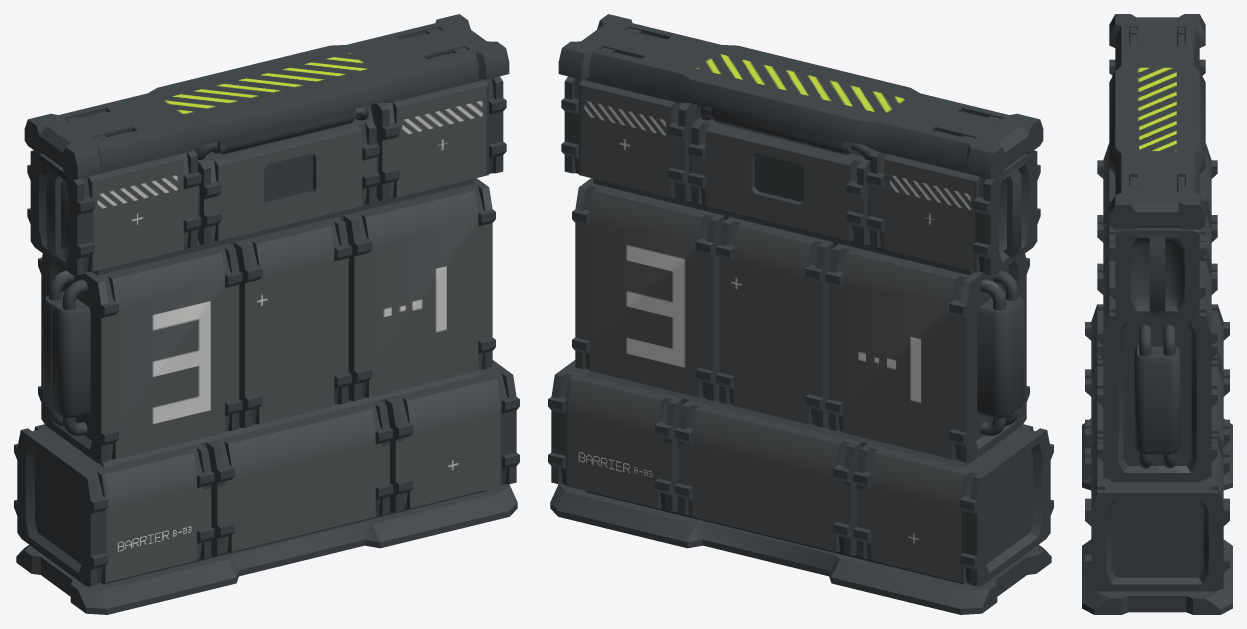
Rendered from high-wall.glb.
The picture shows the model from 3 angles, left to right: view 1: azimuth 30°, elevation 25°; view 2: azimuth 150°, elevation 25°; view 3: azimuth 270°, elevation 25°; orthographic projection. The views are drawn at different scales.
Visible parts, largest first — view 1: high-wall-full; view 2: high-wall-full; view 3: high-wall-full.
Part boxes in pixels (left/top/right/bottom): high-wall-full: left=14, top=14, right=519, bottom=614; high-wall-full: left=548, top=14, right=1053, bottom=614; high-wall-full: left=1082, top=14, right=1232, bottom=614.
Bounding box in the file's own units: 75.08 × 75 × 25.
1 material, 1 textured.
